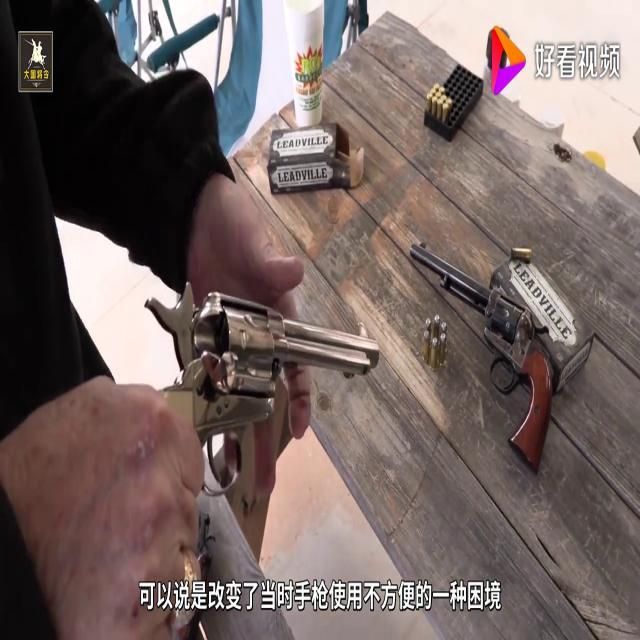gun-knife-thesis - v11 Yolov5 augmented: (50, 258, 398, 608), (407, 229, 555, 473)
